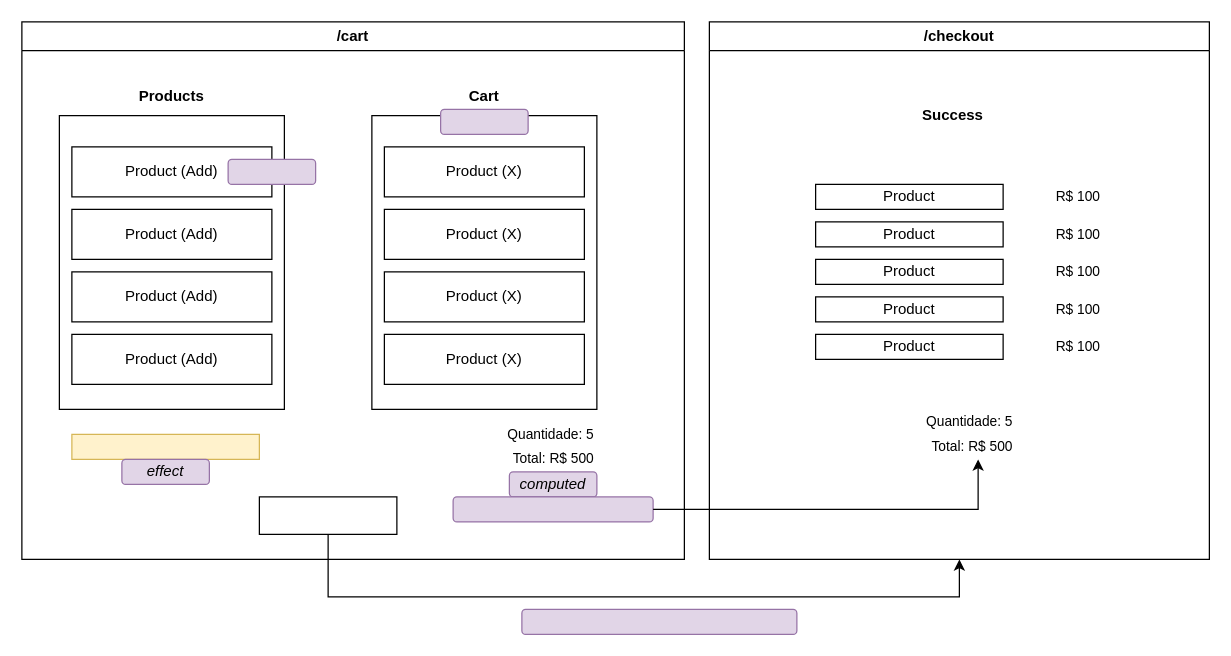
The diagram is 1231 pixels wide and 656 high, and some of its shapes have lost their labels. The shapes that lost their labels are listed below. From the top down, each one's centre as x and y in pixels, then its label:
At point (483, 121): "signal".
At point (271, 171): "component".
At point (165, 446): "! Cart Updated".
At point (327, 515): "Checkout >".
At point (552, 509): "standalone component".
At point (659, 621): "router data as component inputs".
